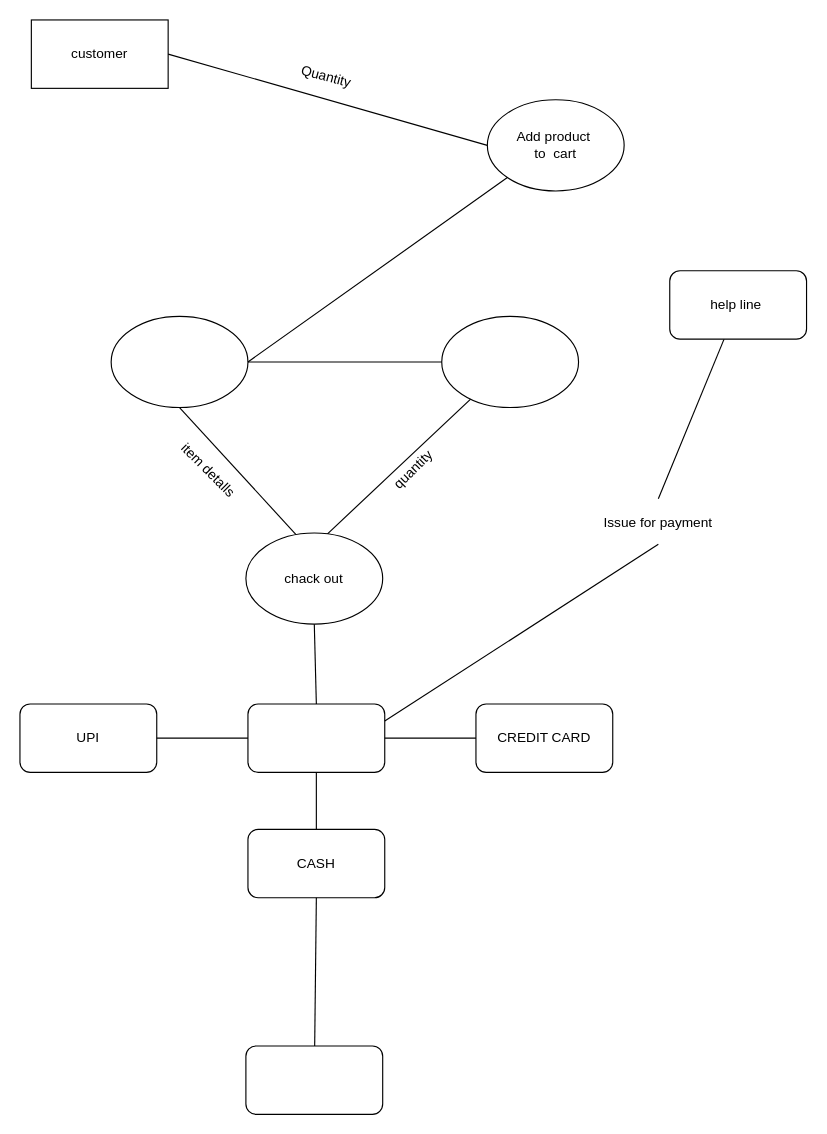
Image size: 827x1134. Some labels were removed from this diagram. Each missing label, with the box of its shape:
BILL: (245, 1045, 383, 1114)
payment: (247, 703, 385, 772)
shopping cart: (110, 315, 248, 408)
view cart or edit cart: (441, 315, 579, 408)
